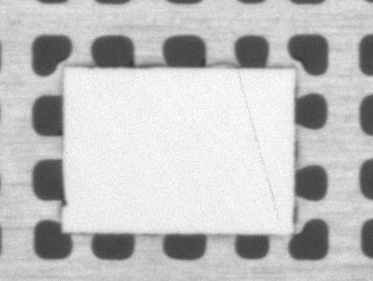DIE_CRACK: (238, 72, 279, 221)
